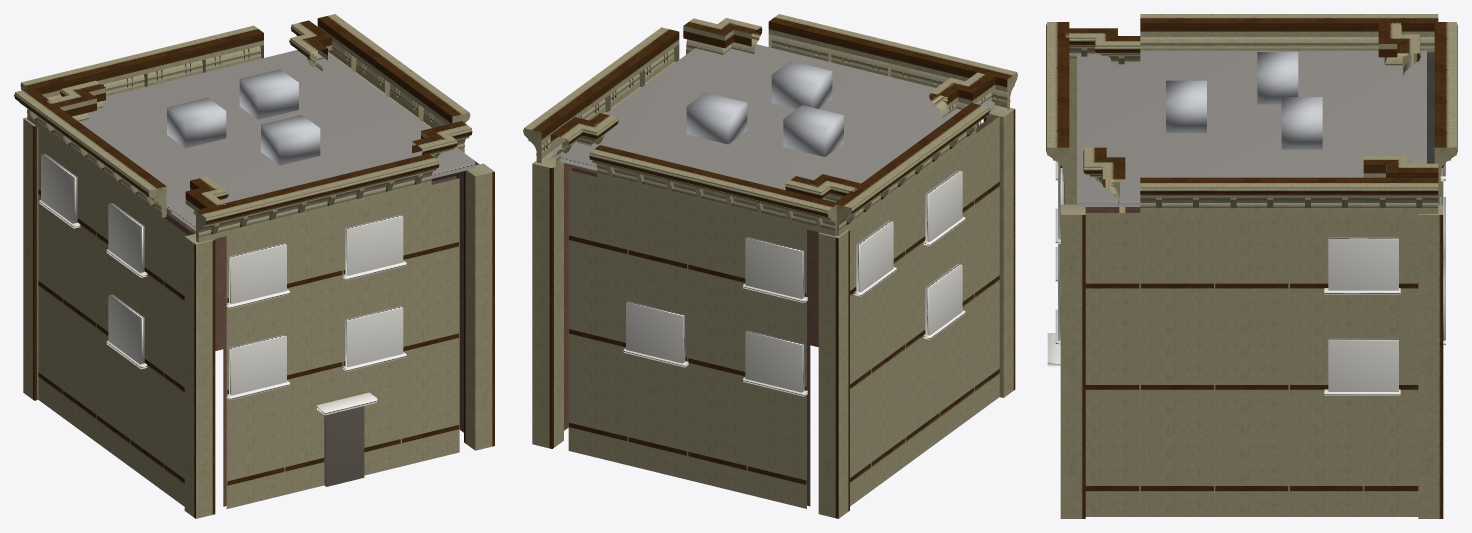
Rendered from b_house3.gltf.
3 renders of one model, left to right at view 1: azimuth 30°, elevation 25°; view 2: azimuth 150°, elevation 25°; view 3: azimuth 270°, elevation 25°, orthographic. The views are drawn at different scales.
Visible parts, largest first — view 1: b_house3; view 2: b_house3; view 3: b_house3.
Part boxes in pixels (x1=…): b_house3: x1=14, y1=14, x2=494, y2=518; b_house3: x1=523, y1=14, x2=1017, y2=518; b_house3: x1=1046, y1=14, x2=1457, y2=518.
Bounding box in the file's own units: 11.06 × 10.3 × 11.06.
Materials: 9 (3 with a texture image).
